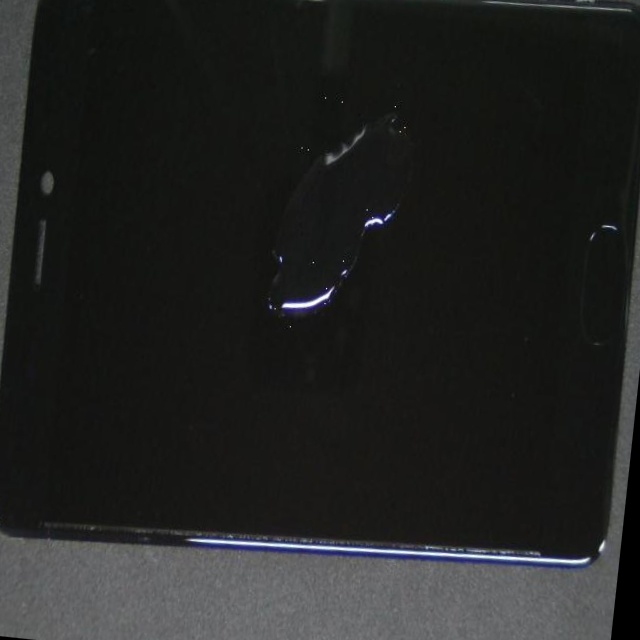oil: (129, 0, 472, 366)
